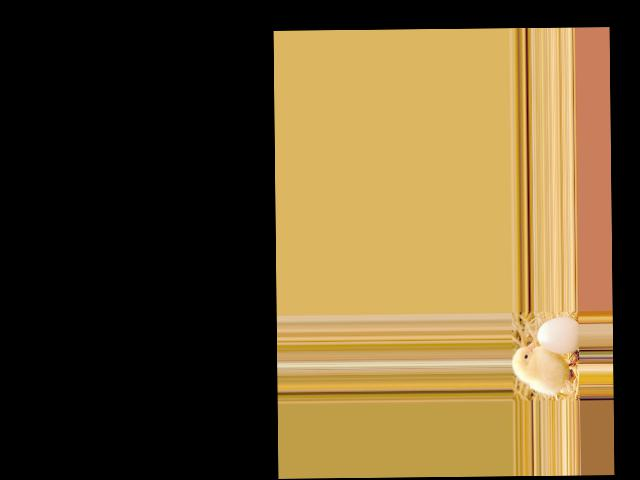egg: (537, 317, 579, 354)
